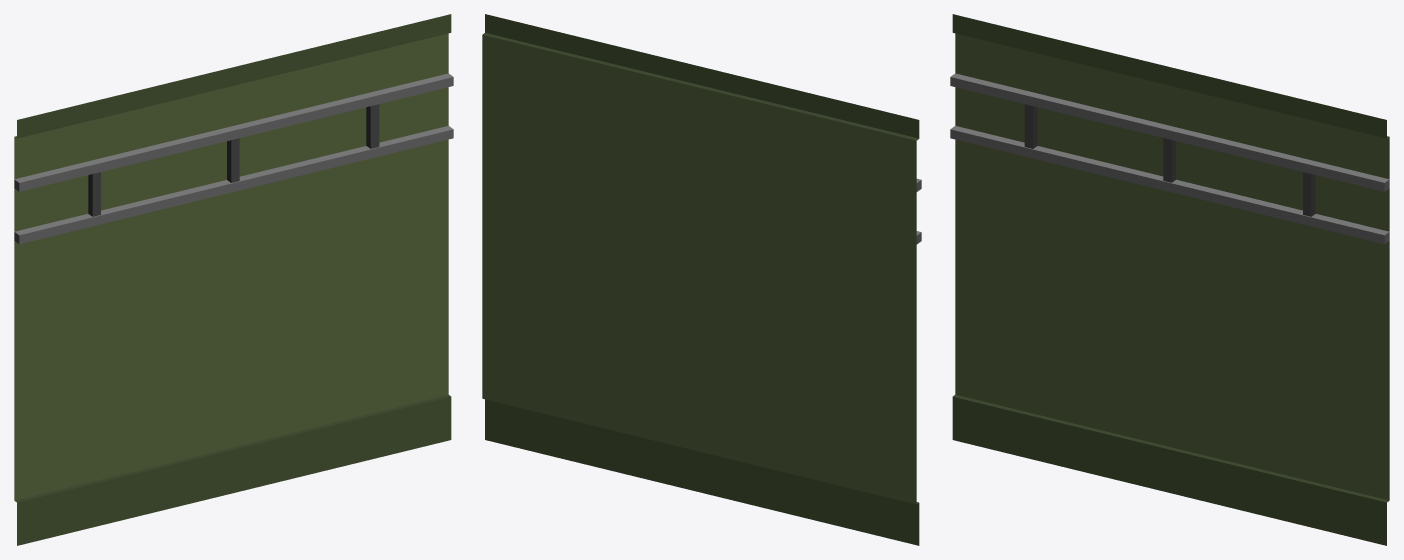
The model's file is AI_Env_Wall_Green_Electronics_Straight.fbx.
3 views of the same model, side by side, from view 1: azimuth 30°, elevation 25°; view 2: azimuth 150°, elevation 25°; view 3: azimuth 330°, elevation 25° (orthographic).
Parts seen in each view (by area): view 1: AI_Env_Wall_Green_Electronics_Straight; view 2: AI_Env_Wall_Green_Electronics_Straight; view 3: AI_Env_Wall_Green_Electronics_Straight.
Boxes of the visible parts, x1,y1,x2,y2 form: AI_Env_Wall_Green_Electronics_Straight: (14,14,453,545); AI_Env_Wall_Green_Electronics_Straight: (482,14,921,545); AI_Env_Wall_Green_Electronics_Straight: (950,14,1389,545).
Bounding box in the file's own units: 5 × 4.69 × 0.0984.
